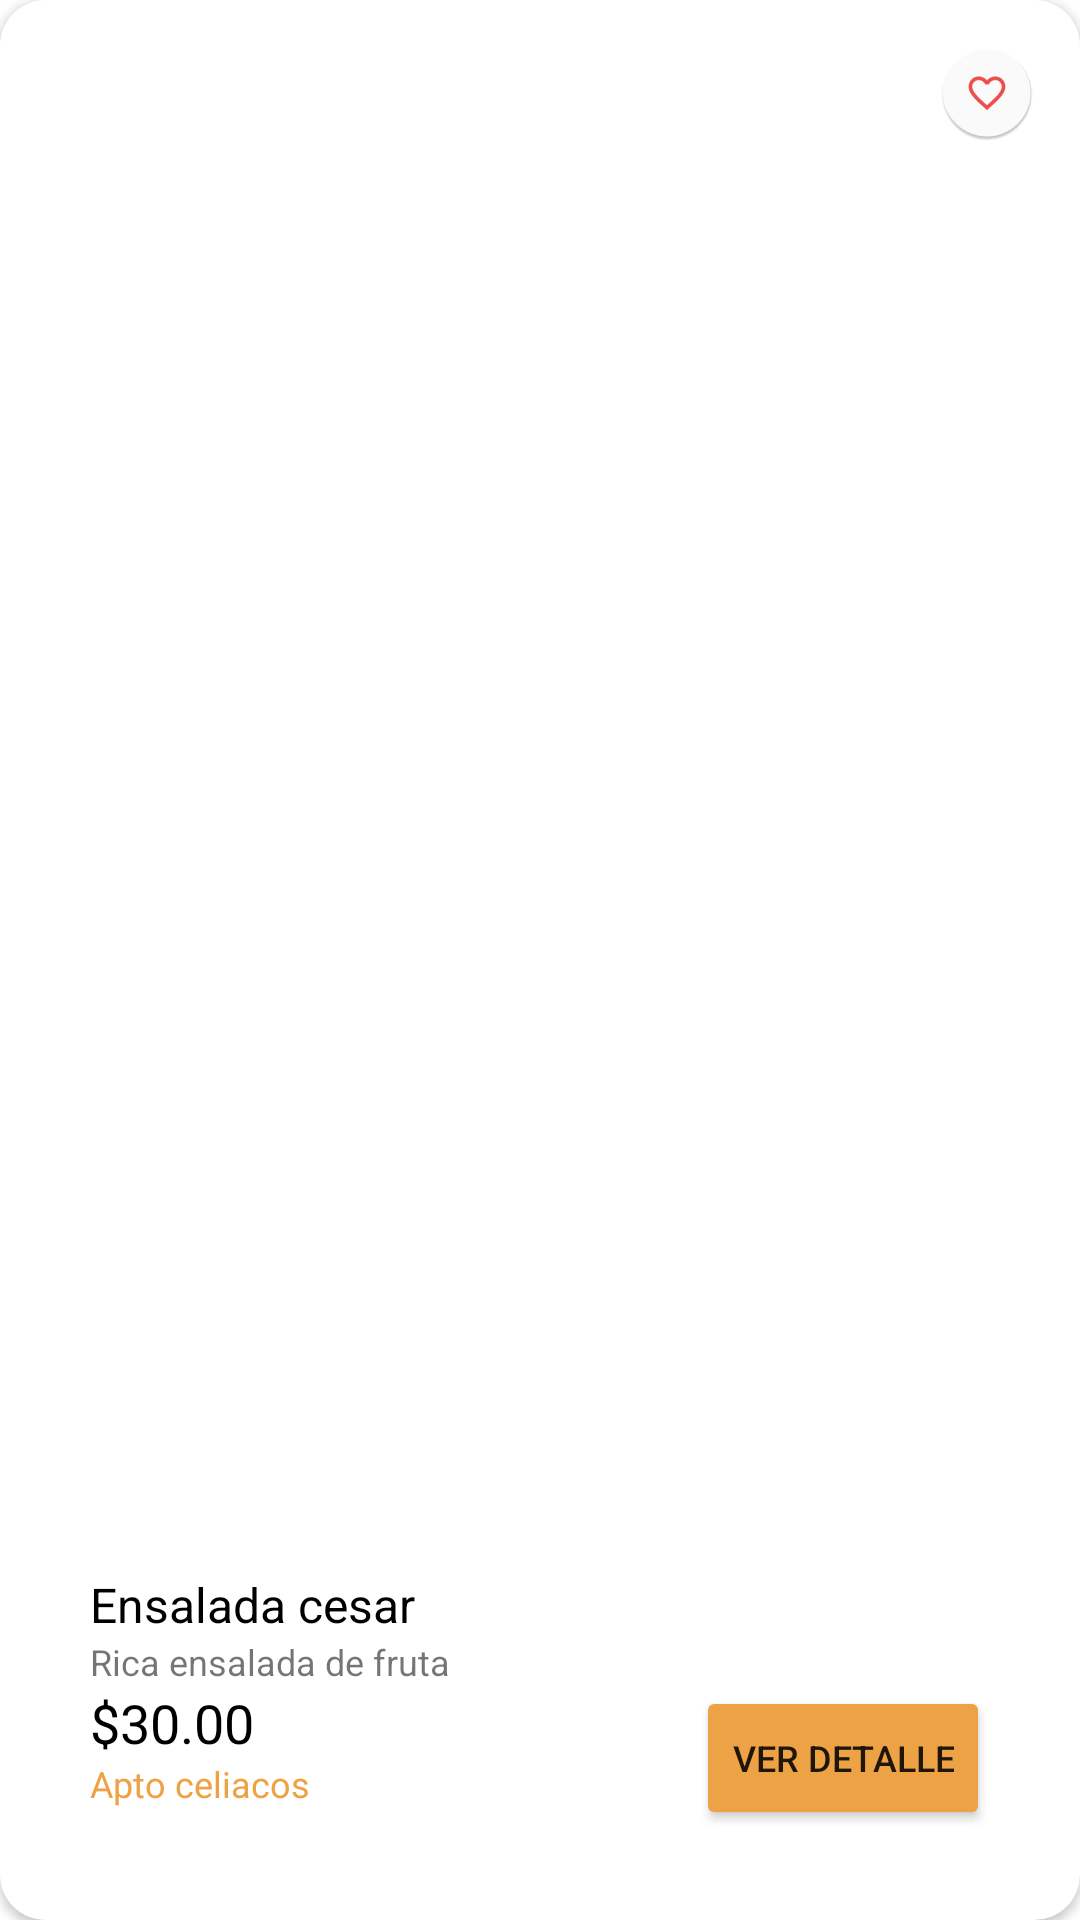

Icon bounding boxes for this 1080px x 1920px phone screenshot, format rect(x1, y1, x2, y2):
favorito home: rect(944, 76, 1031, 139)
